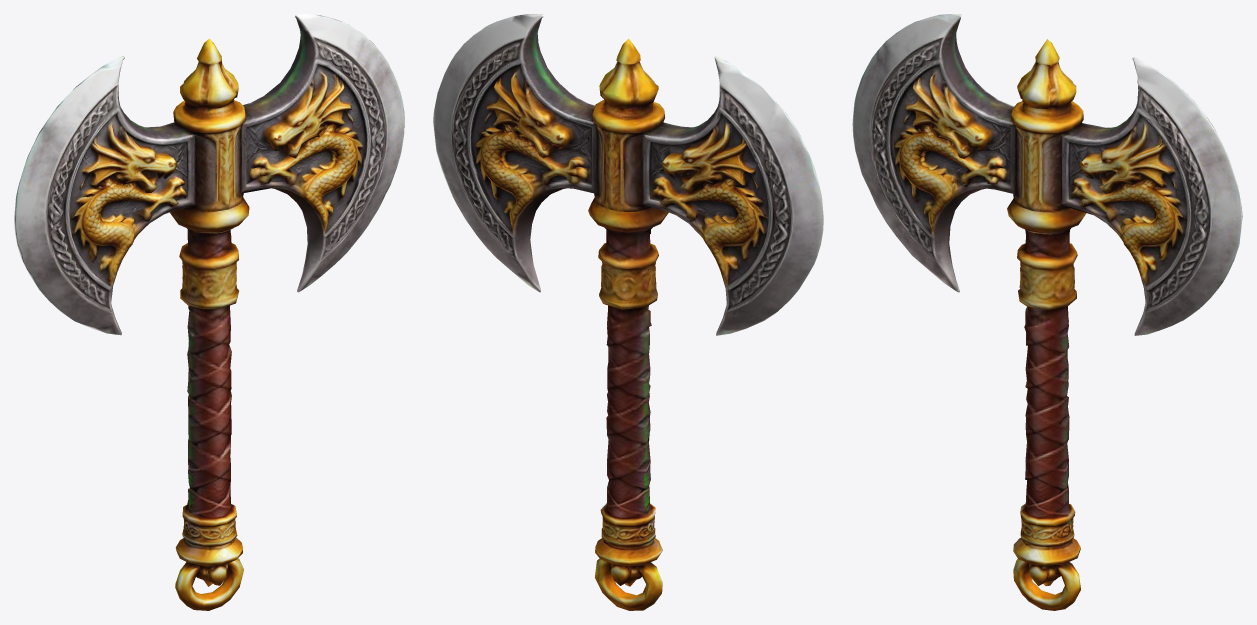
The model's file is kapak-212.glb.
3 renders of one model, left to right at view 1: azimuth 30°, elevation 25°; view 2: azimuth 150°, elevation 25°; view 3: azimuth 330°, elevation 25°, orthographic.
Parts seen in each view (by area): view 1: tripo_node_43cc83a5-043f-4882-93a4-429122330430; view 2: tripo_node_43cc83a5-043f-4882-93a4-429122330430; view 3: tripo_node_43cc83a5-043f-4882-93a4-429122330430.
Part boxes in pixels (<box>): tripo_node_43cc83a5-043f-4882-93a4-429122330430: <box>14,14,404,610</box>; tripo_node_43cc83a5-043f-4882-93a4-429122330430: <box>433,14,823,610</box>; tripo_node_43cc83a5-043f-4882-93a4-429122330430: <box>852,14,1242,610</box>.
Size of the model in its own units: 0.697 by 0.9794 by 0.125.
Materials: 1 (1 with a texture image).
